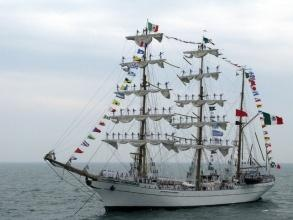fanchuan: (44, 20, 290, 207)
